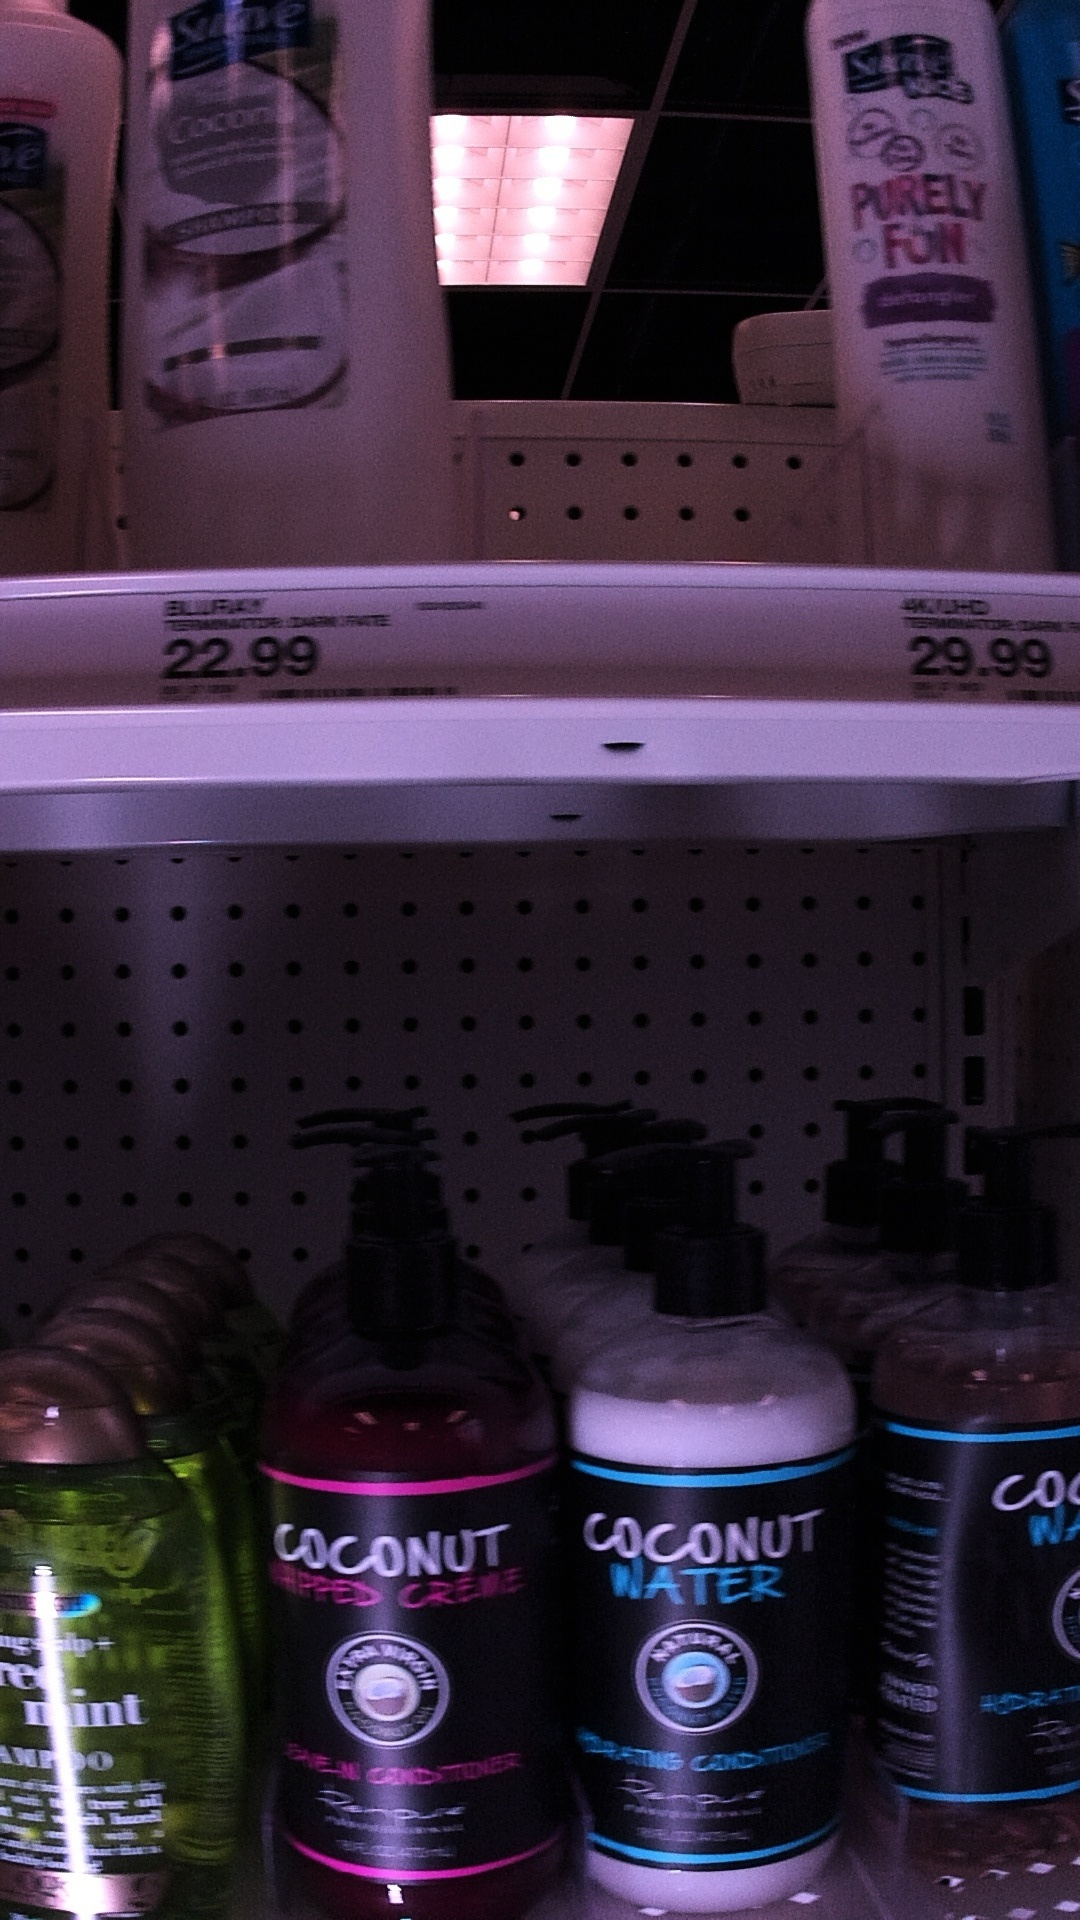ptag: (135, 582, 502, 709), (880, 591, 1080, 708)
